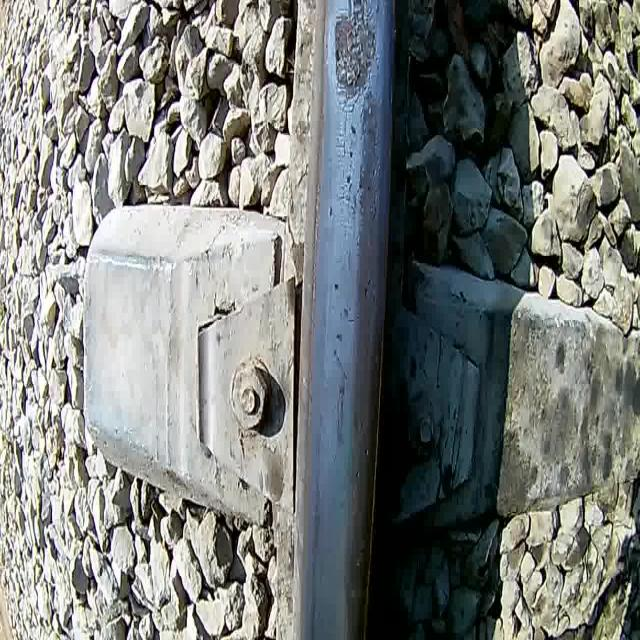Spallings: (331, 0, 377, 94)
Squats: (318, 0, 388, 113)
